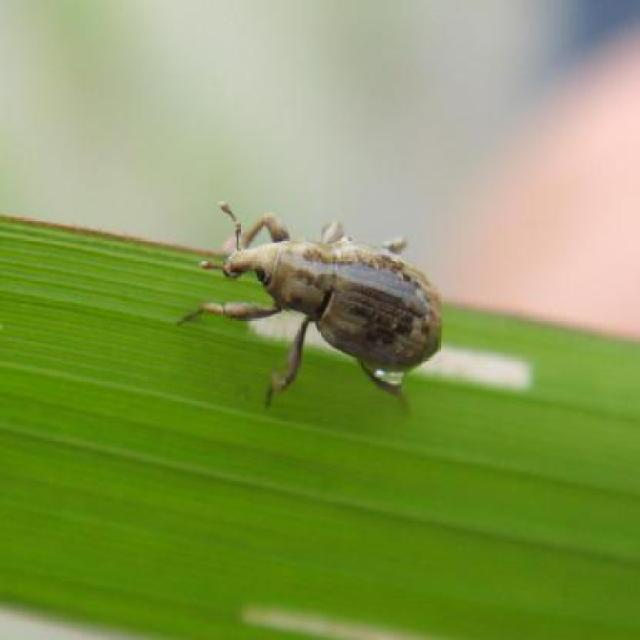rice-bug: (192, 214, 454, 400)
